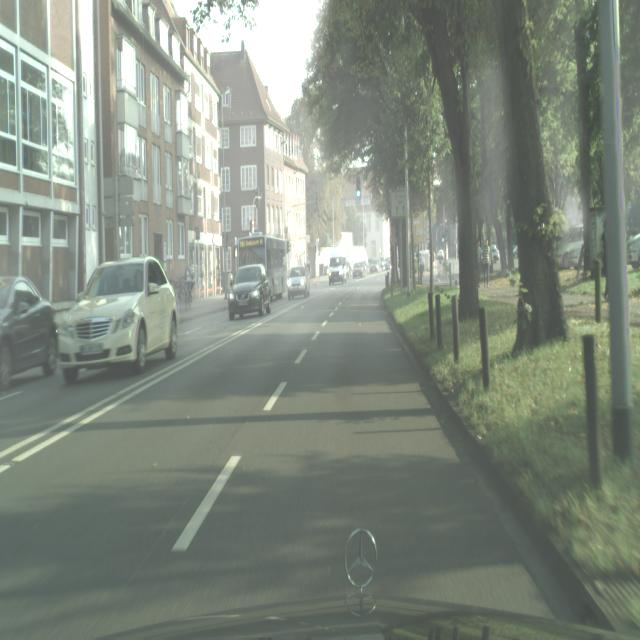bicycle: (236, 232, 286, 301)
train: (328, 248, 347, 286), (352, 246, 369, 279)
truck: (56, 255, 179, 385), (0, 275, 58, 391), (227, 262, 271, 320), (287, 264, 310, 299), (627, 231, 640, 269), (489, 244, 501, 274), (381, 257, 391, 271)
